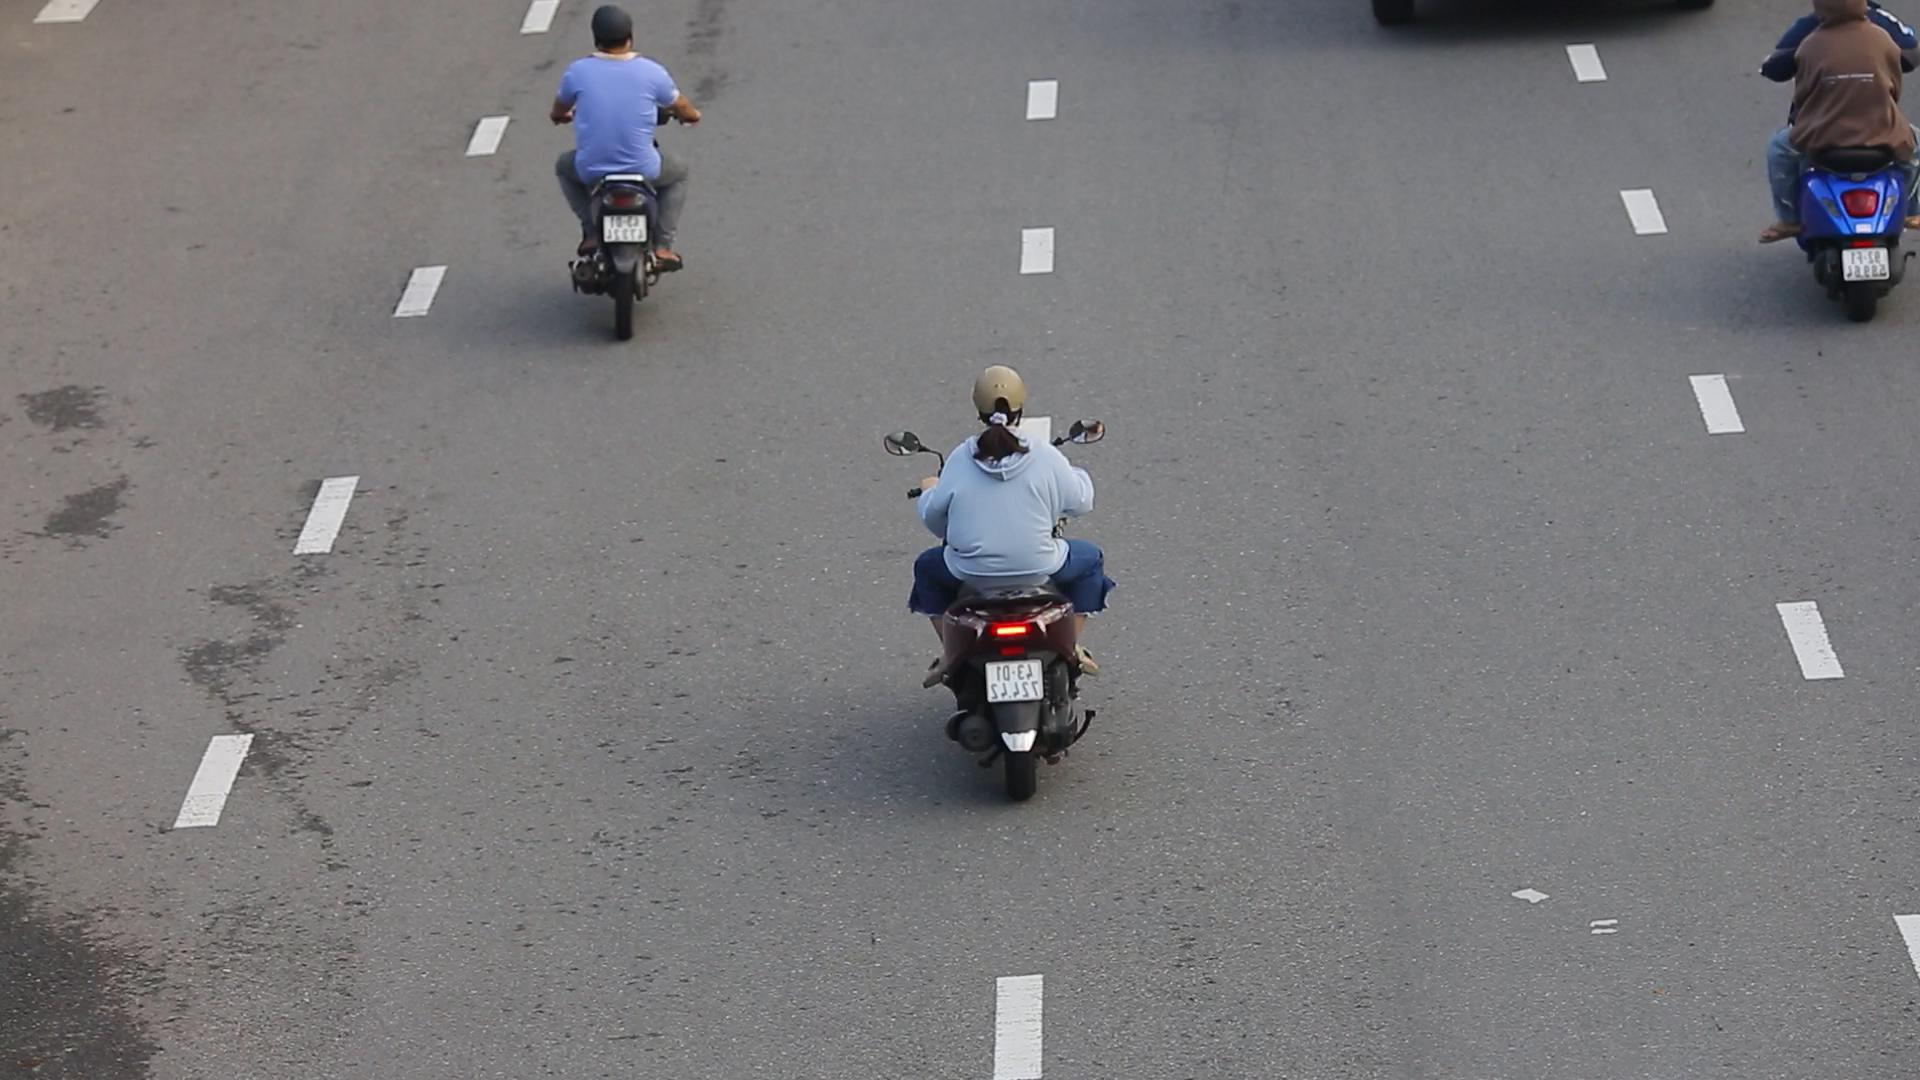motobike: (899, 347, 1110, 782), (522, 0, 696, 352)
